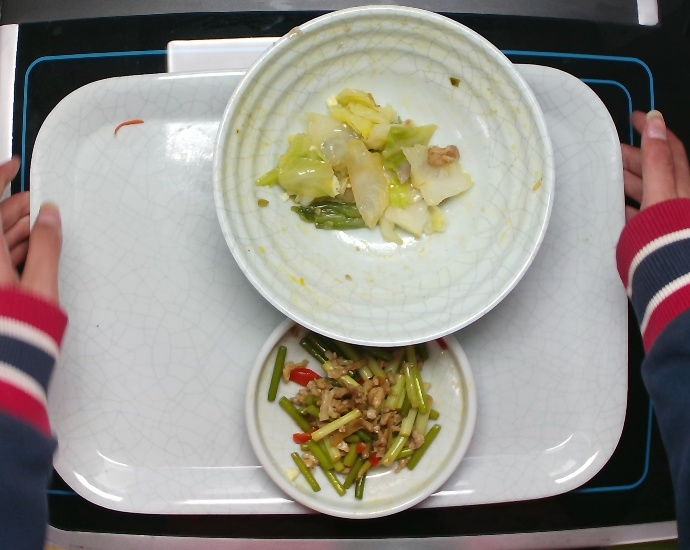JYsf-Da_Tang_Wan: (209, 1, 558, 349)
JYsf-Xiao_Yuan_Pan: (247, 297, 483, 521)
